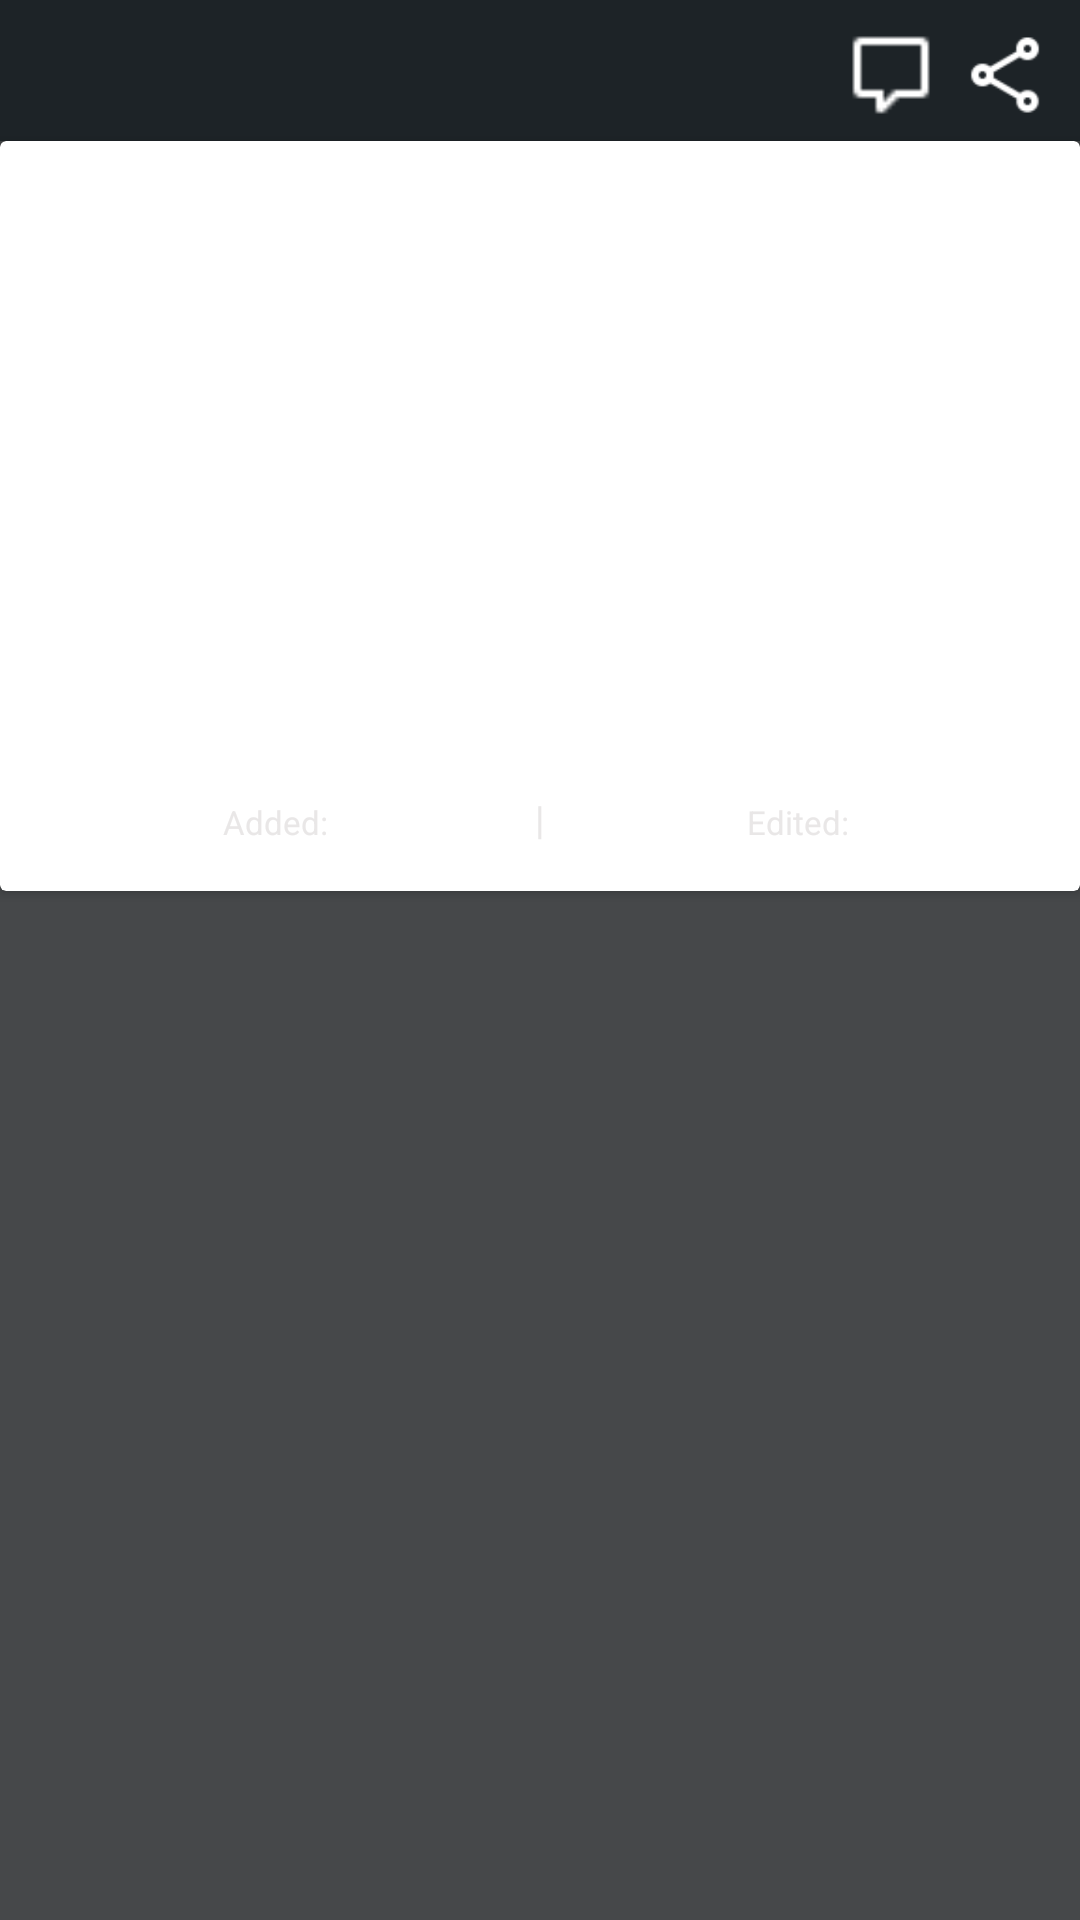

Icon bounding boxes for this 1080w x 1920h phone screenshot, format (x1, y1, x2, y2):
comment: (852, 36, 930, 114)
share variant: (971, 37, 1039, 113)
